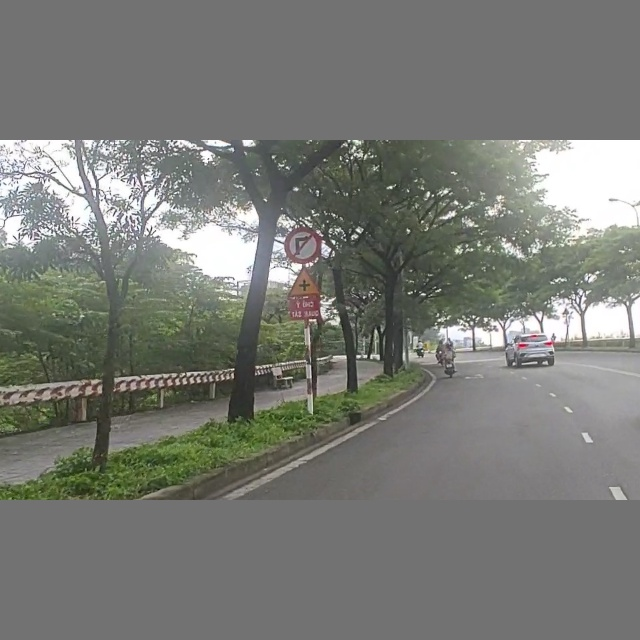P.123a: (282, 223, 327, 265)
W.205a: (283, 265, 323, 297)
